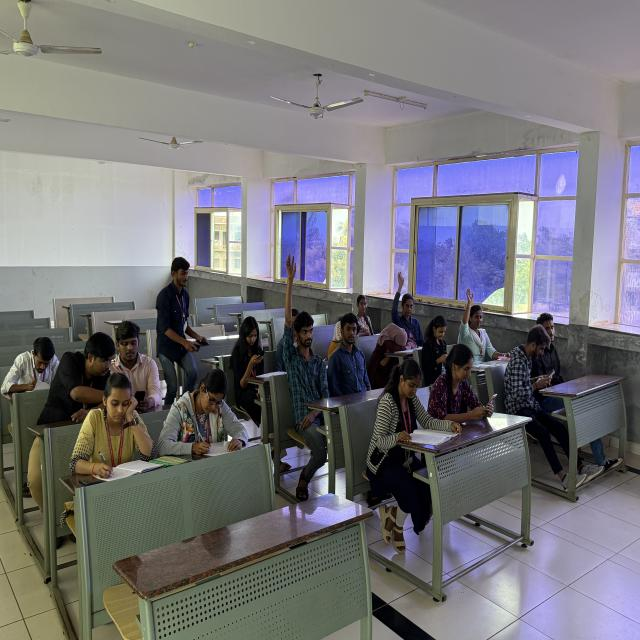Hand Rising: (275, 248, 337, 424), (458, 282, 506, 363), (392, 261, 429, 348)
Reading: (368, 350, 457, 481)
Sleeping: (368, 316, 424, 368)
Using Phone: (115, 316, 169, 414), (432, 340, 498, 418), (511, 323, 565, 402), (230, 298, 276, 374), (425, 306, 454, 375)
Writing: (67, 362, 158, 498), (158, 365, 243, 472), (2, 329, 68, 404)
